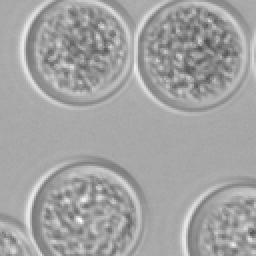picoshell: (134, 0, 250, 112), (18, 0, 132, 108), (26, 156, 144, 254), (180, 178, 254, 254), (0, 214, 36, 254)
